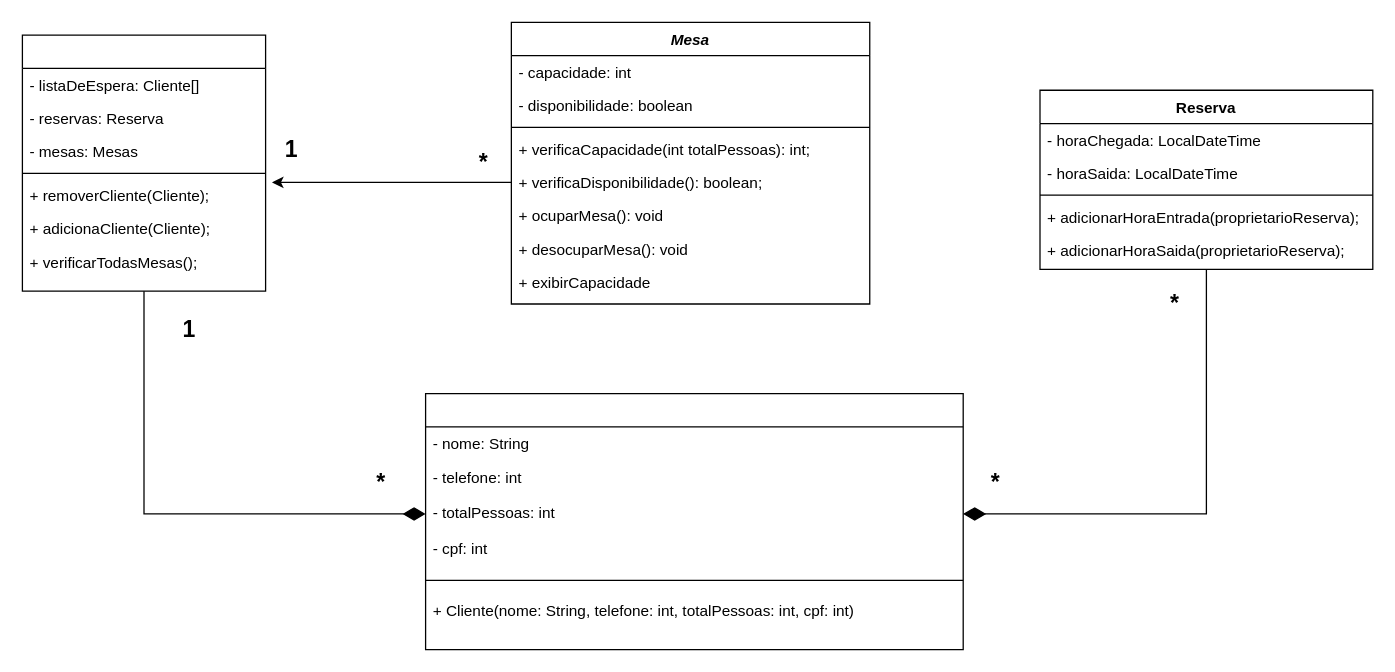
Some shapes in this 1395 by 672 pixel diagram are drawn without their labels. The box of each missing label's shape, as (x1, y1, x2, y2) in pixels:
PropietarioReserva: (424, 392, 963, 650)
Restaurante: (21, 34, 266, 291)
